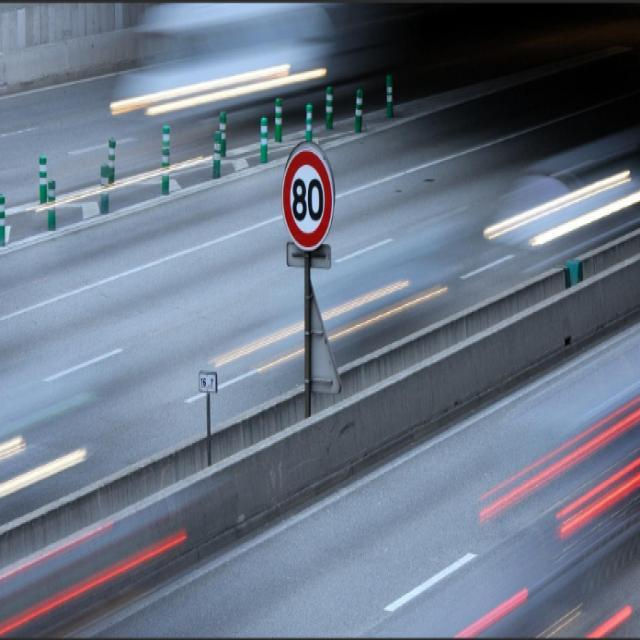forb_speed_over_80: (281, 150, 338, 253)
